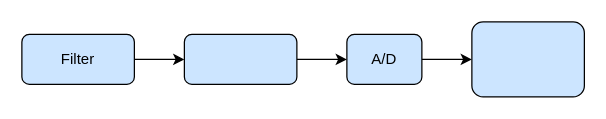
Image size: 606x119. Some labels were removed from this diagram. Here are the shapes that lost their labels. From the top down, the centre of each, then its label:
the point at 240,58: Amplify
the point at 527,59: Data Processing
